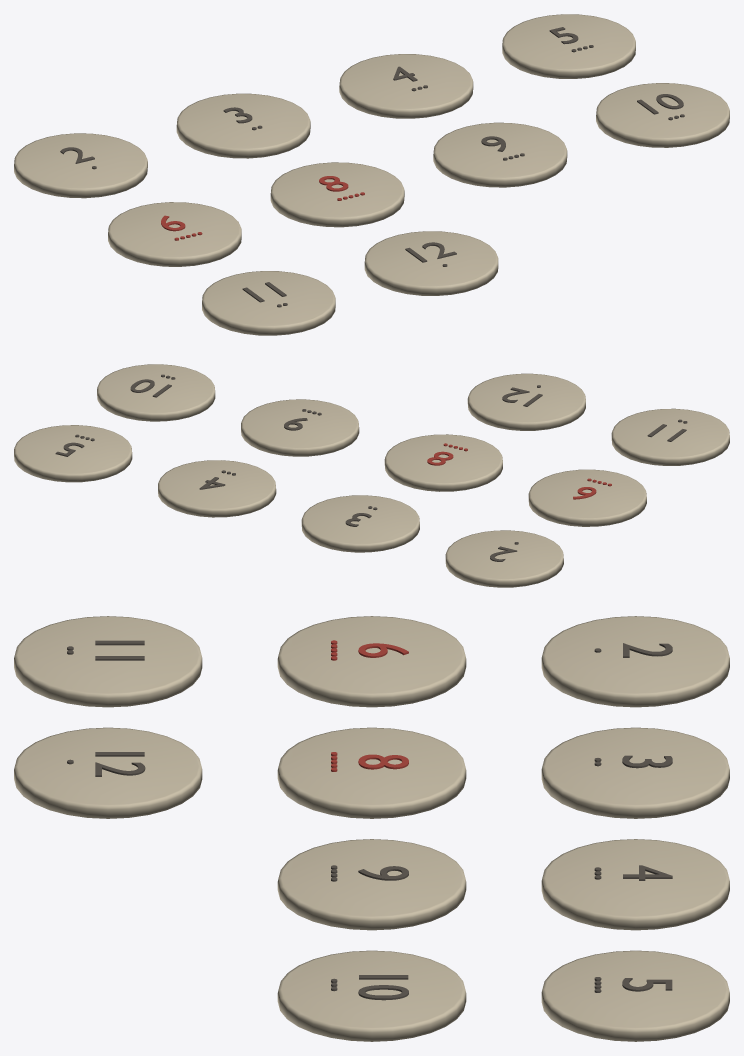
The model's file is tokens.glb.
3 renders of one model, top to bottom at view 1: azimuth 30°, elevation 25°; view 2: azimuth 150°, elevation 25°; view 3: azimuth 270°, elevation 25°, orthographic. The views are drawn at different scales.
Parts seen in each view (by area): view 1: token_8, token_3, token_9, token_11, token_5, token_2, token_4, token_12, token_10, token_6; view 2: token_8, token_10, token_6, token_9, token_2, token_3, token_5, token_12, token_4, token_11; view 3: token_6, token_8, token_10, token_9, token_4, token_2, token_11, token_5, token_3, token_12.
Part boxes in pixels (box(x1,y1,x2,y2)): token_8: box(270, 162, 404, 227); token_3: box(176, 93, 310, 158); token_9: box(433, 122, 567, 187); token_11: box(202, 271, 335, 335); token_5: box(502, 14, 635, 78); token_2: box(14, 133, 147, 198); token_4: box(339, 54, 473, 118); token_12: box(364, 231, 498, 295); token_10: box(596, 83, 729, 147); token_6: box(108, 202, 241, 266); token_8: box(384, 434, 502, 491); token_10: box(97, 364, 215, 421); token_6: box(528, 469, 646, 526); token_9: box(241, 399, 359, 456); token_2: box(445, 530, 563, 587); token_3: box(301, 495, 419, 552); token_5: box(14, 425, 132, 482); token_12: box(467, 373, 585, 430); token_4: box(158, 460, 276, 517); token_11: box(611, 408, 729, 465); token_6: box(277, 616, 466, 707); token_8: box(277, 727, 466, 818); token_10: box(277, 950, 466, 1041); token_9: box(277, 839, 466, 930); token_4: box(541, 839, 729, 930); token_2: box(541, 616, 729, 707); token_11: box(14, 616, 202, 707); token_5: box(541, 950, 729, 1041); token_3: box(541, 727, 729, 818); token_12: box(14, 727, 202, 818).
Size of the model in its own units: 1.56 by 0.0315 by 1.14.
